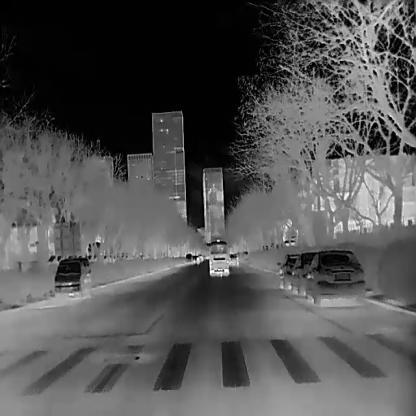car: (303, 250, 365, 306), (51, 255, 90, 298), (287, 252, 314, 296), (275, 254, 297, 290), (208, 238, 228, 274), (228, 253, 239, 265), (184, 252, 192, 263)
